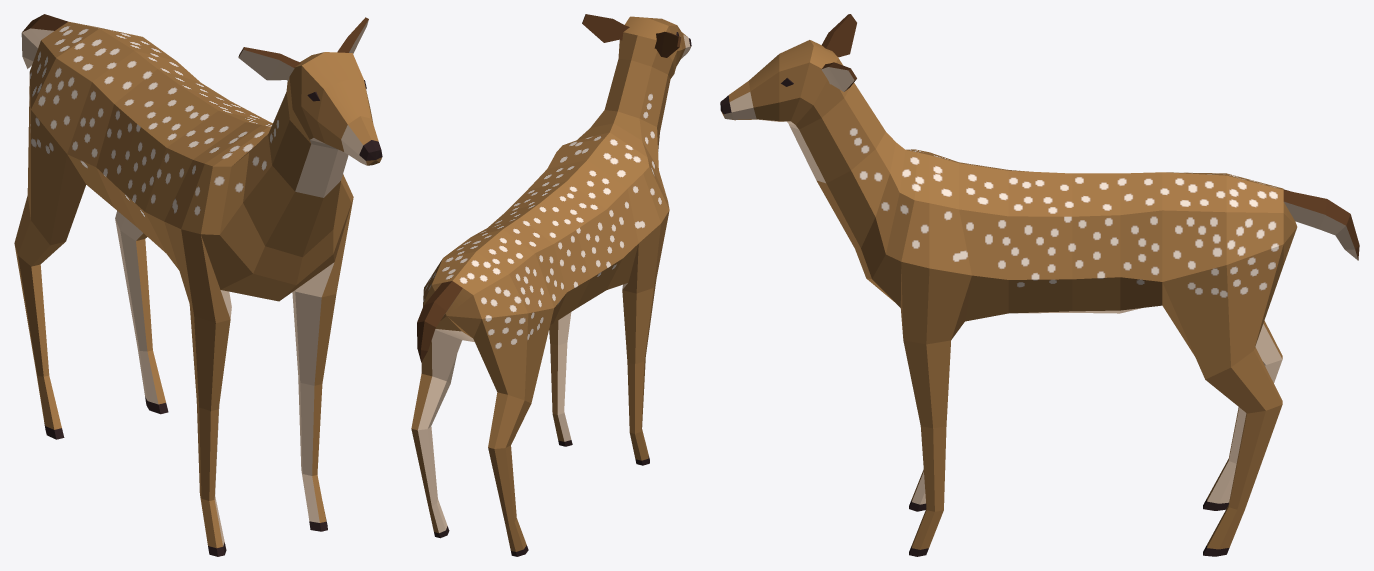
Rendered from Mesh_Fawn.obj.
3 renders of one model, left to right at view 1: azimuth 30°, elevation 25°; view 2: azimuth 150°, elevation 25°; view 3: azimuth 270°, elevation 25°, orthographic. The views are drawn at different scales.
Parts seen in each view (by area): view 1: Geo_Fawn; view 2: Geo_Fawn; view 3: Geo_Fawn.
Boxes of the visible parts, x1,y1,x2,y2 form: Geo_Fawn: [14, 14, 382, 556]; Geo_Fawn: [411, 14, 691, 556]; Geo_Fawn: [720, 14, 1359, 556].
Bounding box in the file's own units: 19.08 × 60.4 × 71.5.
Materials: 1 (1 with a texture image).
